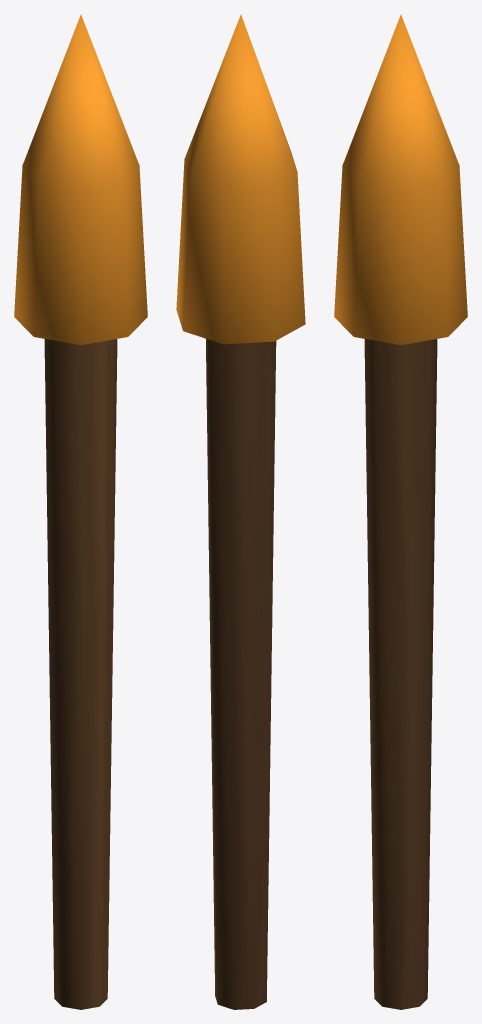
Rendered from torche.glb.
3 renders of one model, left to right at view 1: azimuth 90°, elevation 25°; view 2: azimuth 210°, elevation 25°; view 3: azimuth 270°, elevation 25°, orthographic.
Visible parts, largest first — view 1: torche; view 2: torche; view 3: torche.
Boxes of the visible parts, x1,y1,x2,y2 form: torche: (14,14,147,1009); torche: (176,14,305,1009); torche: (334,14,467,1009).
Size of the model in its own units: 0.08 by 0.65 by 0.08.
1 material, 1 textured.
